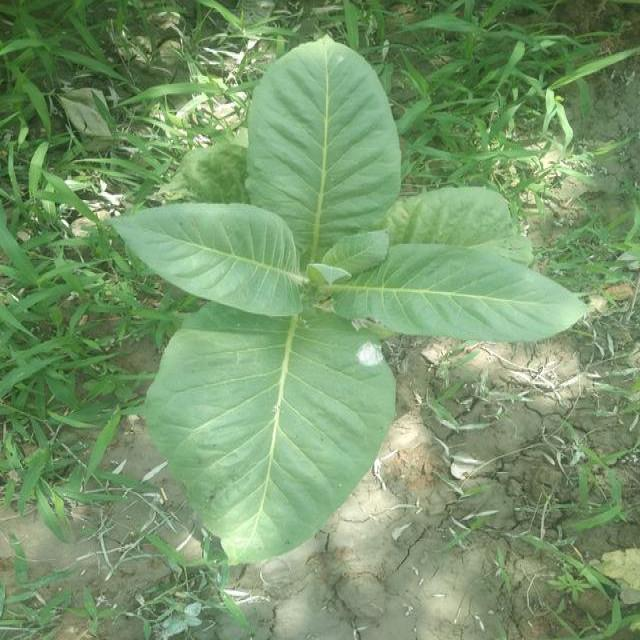crop: (106, 37, 589, 566)
